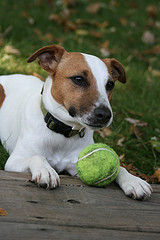tennis ball: (75, 142, 121, 189)
